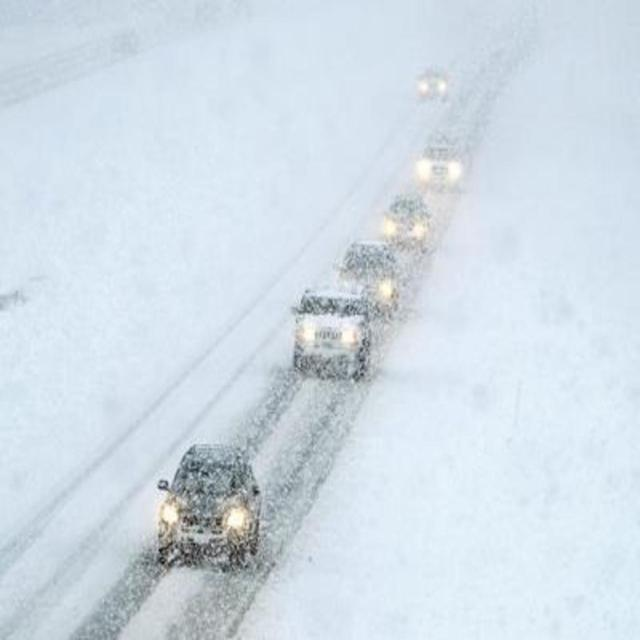Car: (155, 445, 262, 564), (290, 281, 370, 377), (340, 240, 398, 319), (418, 133, 463, 194), (385, 193, 427, 251), (416, 70, 449, 100)
